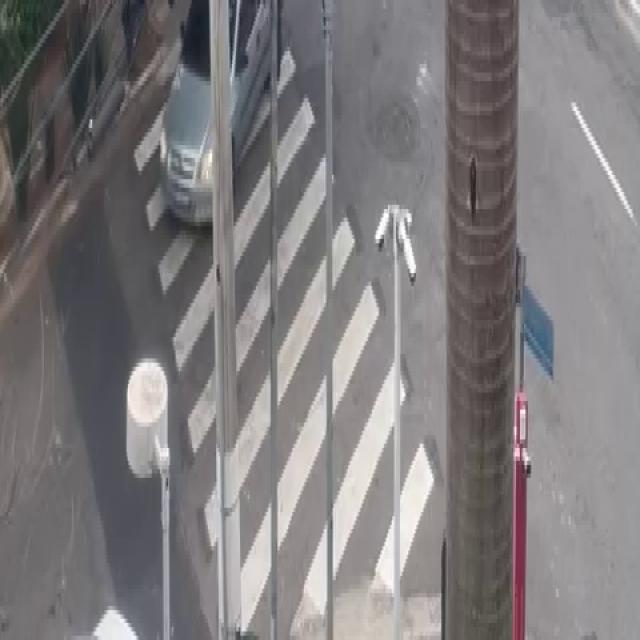car: (151, 0, 297, 229)
